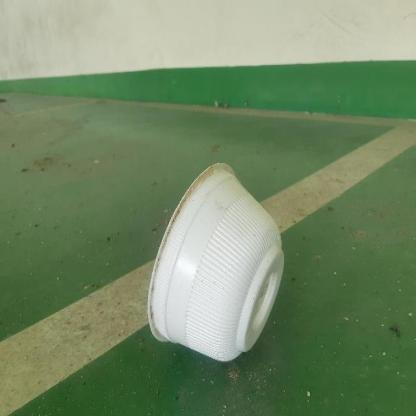Glass Cup: (148, 163, 286, 362), (148, 163, 284, 362)
